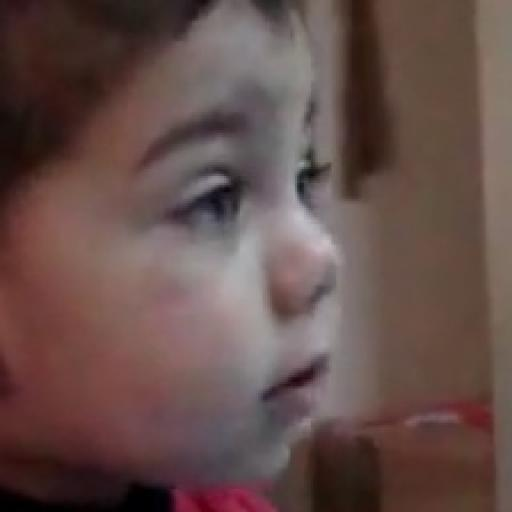Autism: (6, 6, 377, 500)
